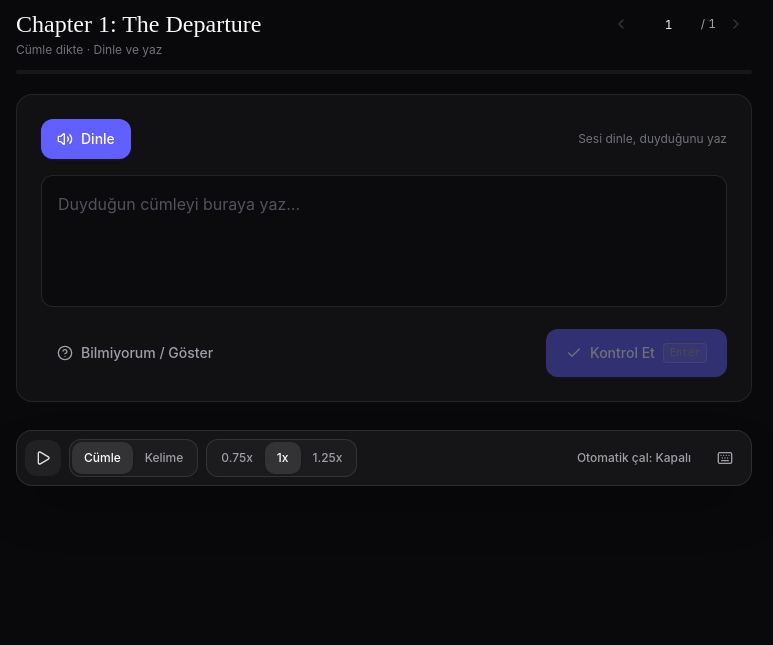
Test case: StudySessionView Component (Faz 1 & Faz 3) › perfect answer enters shadowing mode directly and toggles translation on/off (F3.2)
In the text box: {"x": 384, "y": 241} top-left (41, 175), bottom-right (727, 306), type "he packed his small brown suitcase"
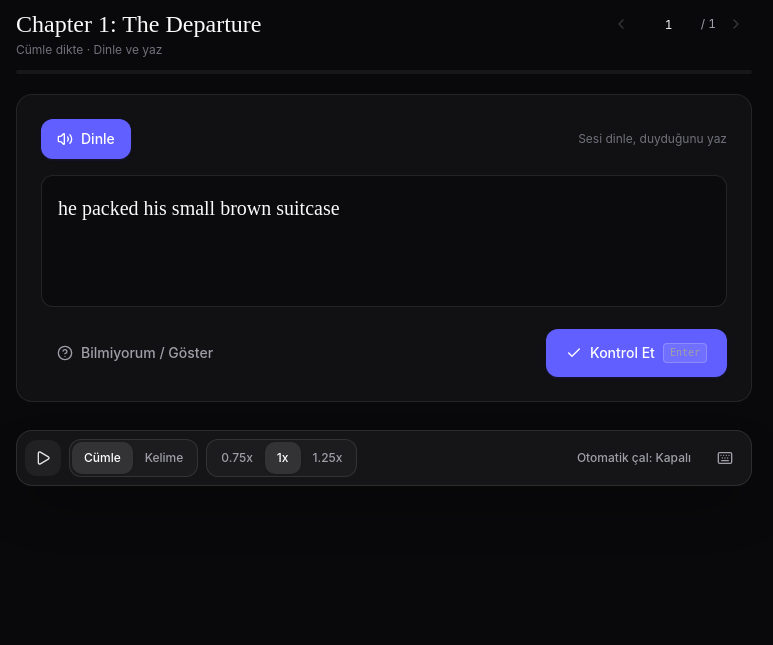
Click the button "Kontrol Et Enter": {"x": 637, "y": 352} top-left (546, 328), bottom-right (727, 376)
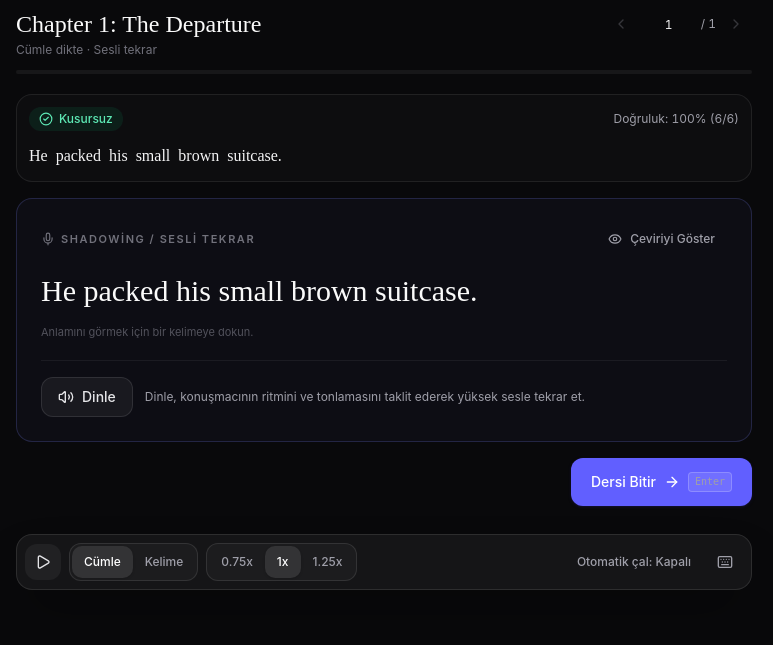
Now the text "Shadowing / Sesli Tekrar" is shown, box top-left (41, 231), bottom-right (255, 247)
Now the text "Kusursuz" is shown, box top-left (29, 107), bottom-right (123, 131)
Now the element named "Orijinal cümle" reads "He packed his small brown suitcase.", box top-left (41, 267), bottom-right (478, 316)
// Clicking toggle button reveals translation
Click the button "Çeviriyi Göster": {"x": 662, "y": 239} top-left (596, 223), bottom-right (727, 255)
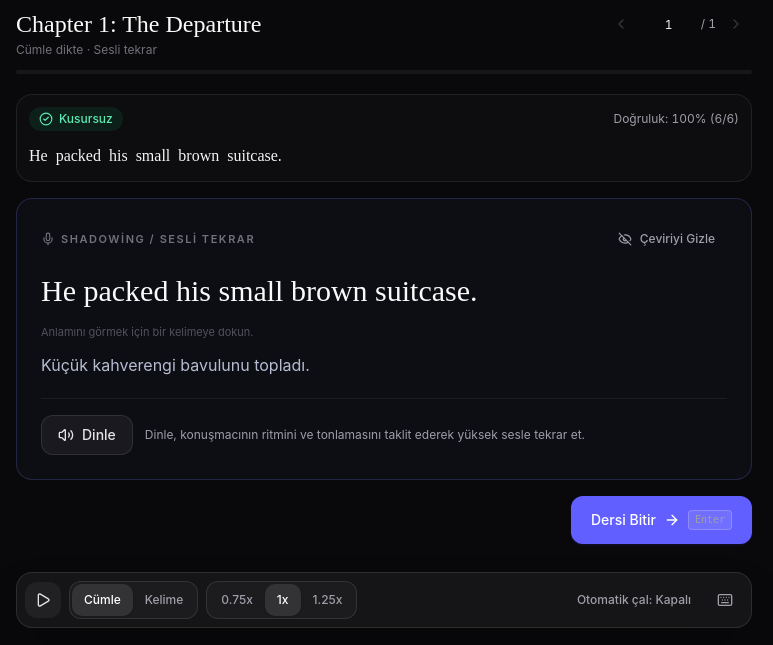
Now the text "Küçük kahverengi bavulunu topladı." is shown, box top-left (41, 355), bottom-right (310, 375)
// Clicking toggle button again hides translation
Click the button "Çeviriyi Gizle": {"x": 666, "y": 239} top-left (606, 223), bottom-right (727, 255)
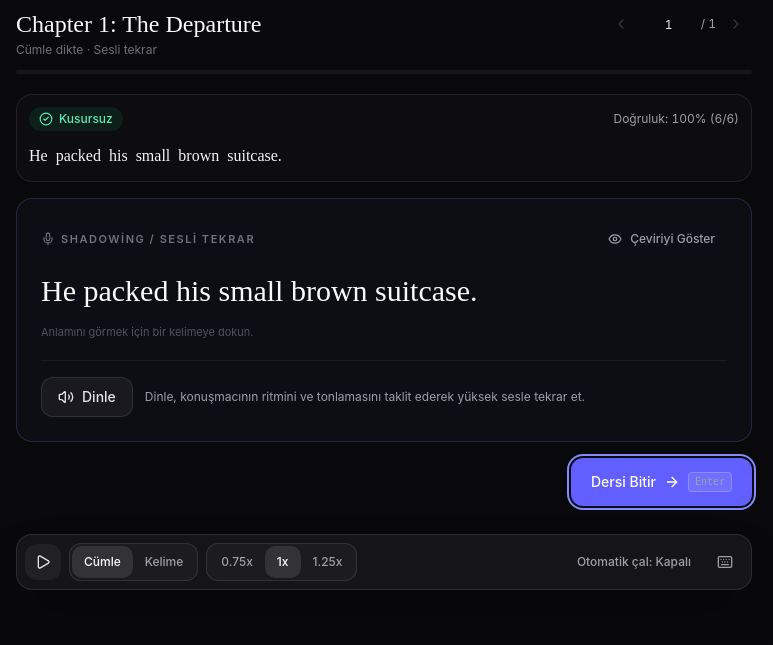
Now the text "Küçük kahverengi bavulunu topladı." is gone
